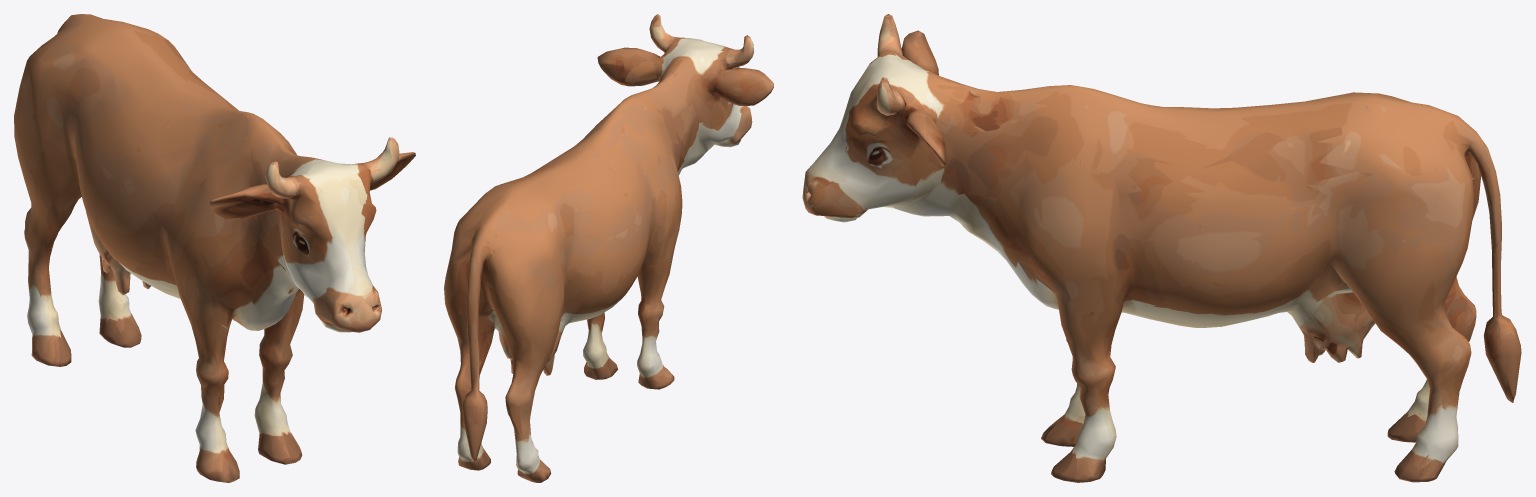
File: cow.fbx
3 renders of one model, left to right at view 1: azimuth 30°, elevation 25°; view 2: azimuth 150°, elevation 25°; view 3: azimuth 270°, elevation 25°, orthographic. The views are drawn at different scales.
Parts seen in each view (by area): view 1: Mesh_0; view 2: Mesh_0; view 3: Mesh_0.
Part boxes in pixels (left/top/right/bottom): Mesh_0: left=14, top=14, right=415, bottom=482; Mesh_0: left=444, top=14, right=773, bottom=482; Mesh_0: left=802, top=14, right=1521, bottom=482.
Bounding box in the file's own units: 97.19 × 166 × 264.
